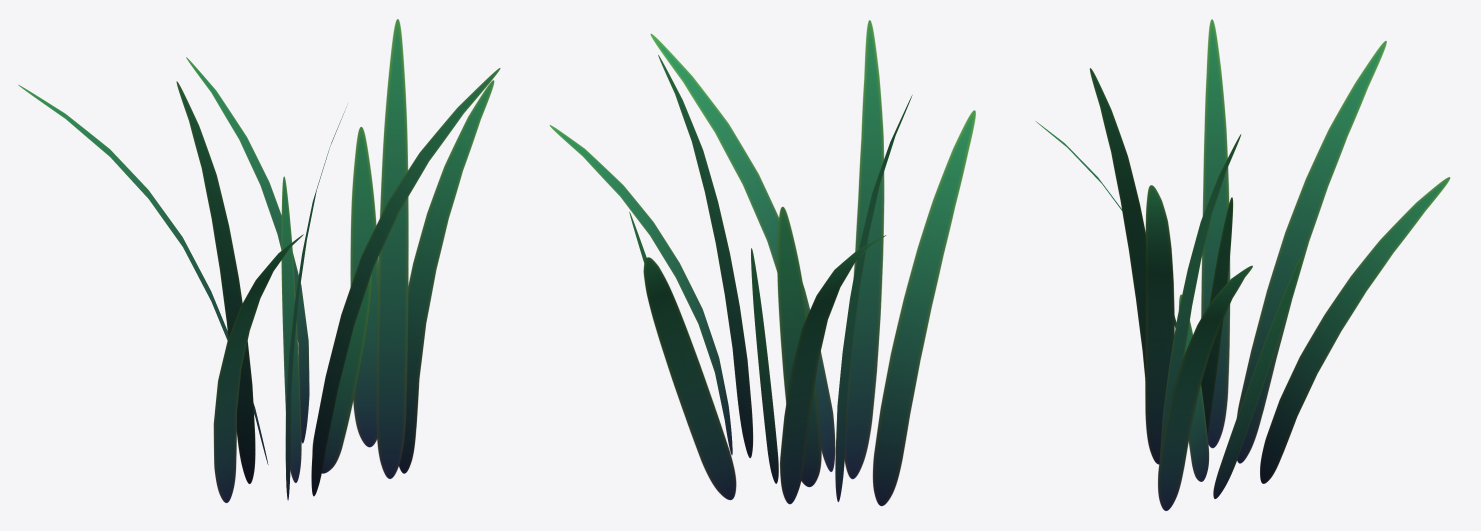
The model's file is grass_blade_1.glb.
The picture shows the model from 3 angles, left to right: view 1: azimuth 30°, elevation 25°; view 2: azimuth 150°, elevation 25°; view 3: azimuth 270°, elevation 25°; orthographic projection. The views are drawn at different scales.
Parts seen in each view (by area): view 1: Grass:Grass_low10_Grass:Grass_MAT_0.002; view 2: Grass:Grass_low10_Grass:Grass_MAT_0.002; view 3: Grass:Grass_low10_Grass:Grass_MAT_0.002.
Boxes of the visible parts, x1,y1,x2,y2 form: Grass:Grass_low10_Grass:Grass_MAT_0.002: (18,19,500,502); Grass:Grass_low10_Grass:Grass_MAT_0.002: (549,20,975,506); Grass:Grass_low10_Grass:Grass_MAT_0.002: (1035,19,1450,510).
Bounding box in the file's own units: 13.86 × 13.52 × 13.07.
Materials: 1 (1 with a texture image).
